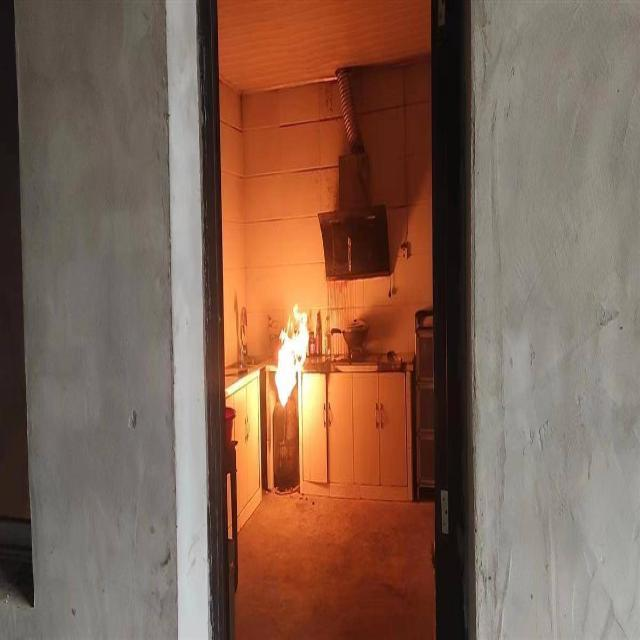Fire: (274, 303, 308, 407)
